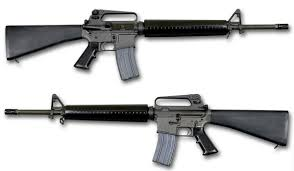gun: (3, 92, 290, 168), (3, 7, 290, 81)
